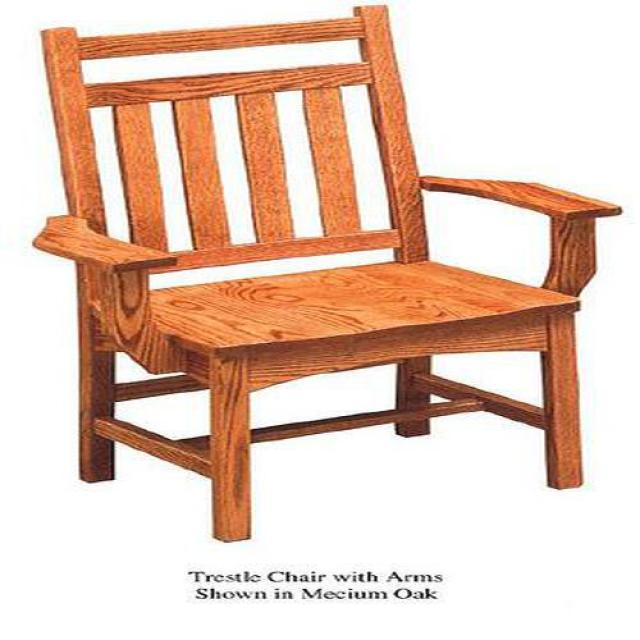chair: (32, 5, 623, 544)
